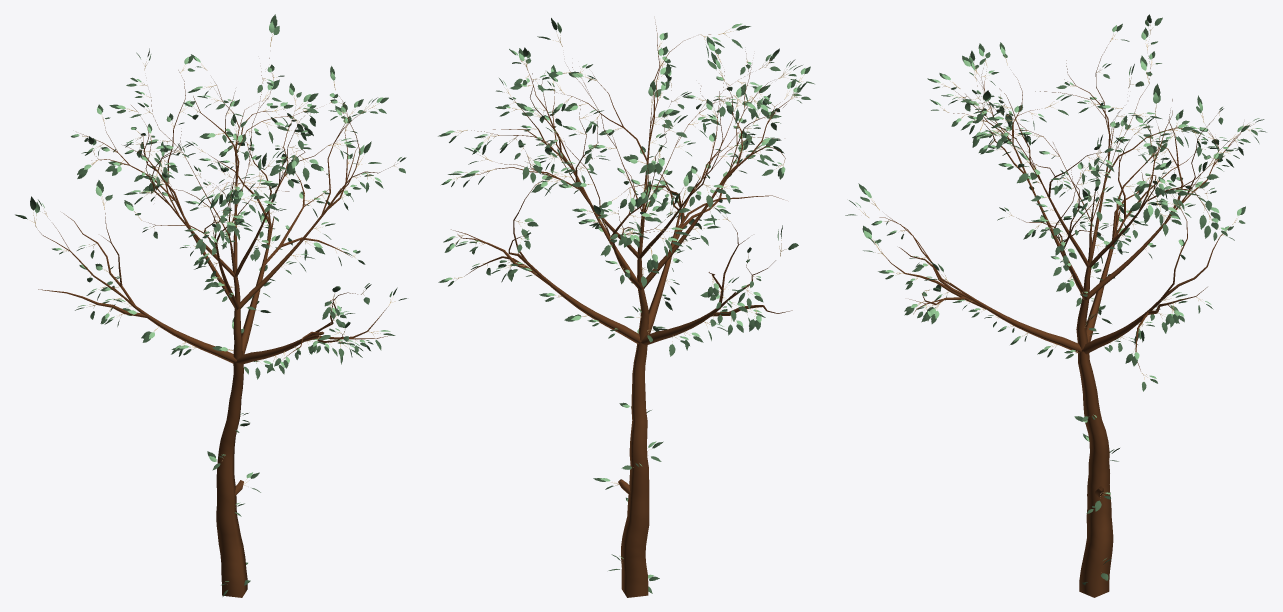
File: Tree34.fbx
3 views of the same model, side by side, from view 1: azimuth 30°, elevation 25°; view 2: azimuth 150°, elevation 25°; view 3: azimuth 270°, elevation 25° (orthographic). The views are drawn at different scales.
Parts seen in each view (by area): view 1: Árbol.002; view 2: Árbol.002; view 3: Árbol.002.
Part boxes in pixels (x1,y1,x2,y2): Árbol.002: (38, 58, 390, 597); Árbol.002: (451, 22, 795, 597); Árbol.002: (879, 30, 1253, 597).
Size of the model in its own units: 1162 by 1764 by 1214.
